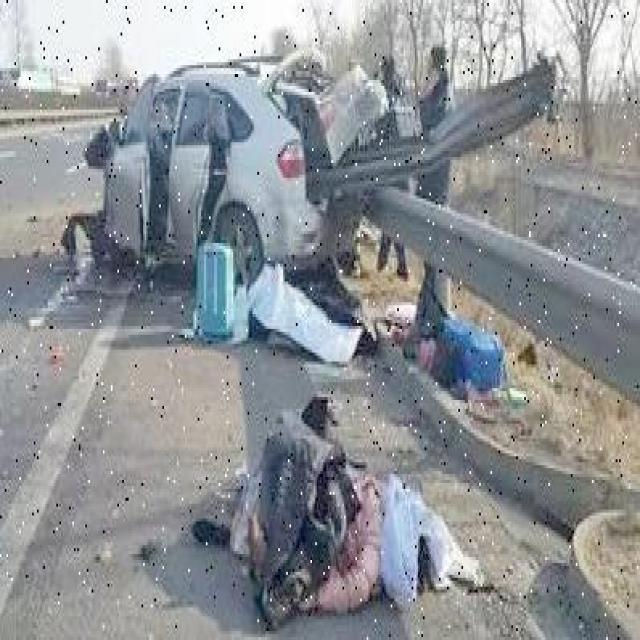fall: (195, 436, 439, 592)
